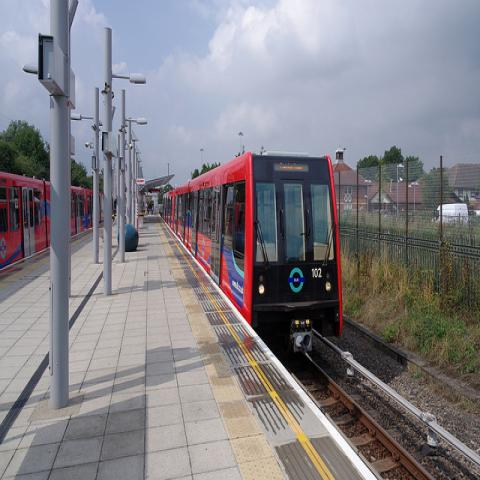truck: (431, 203, 469, 224)
